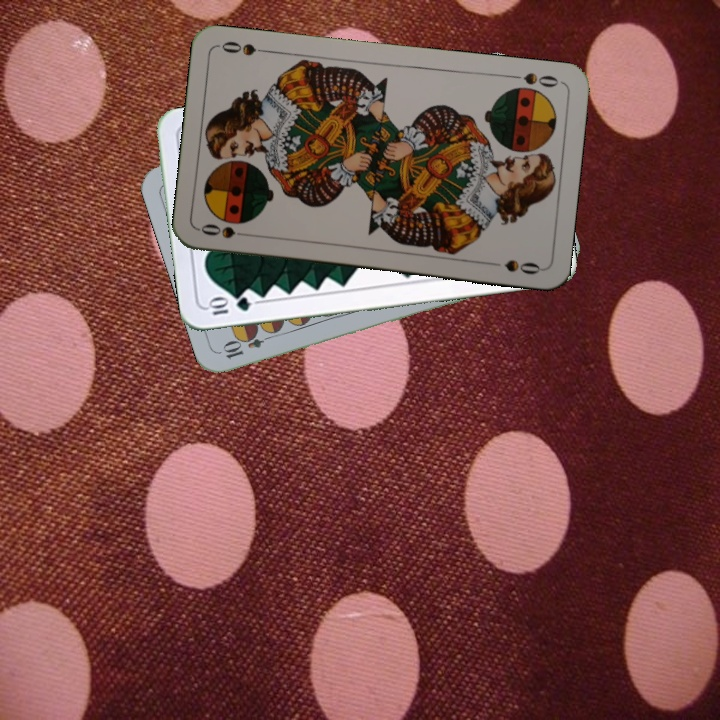E10: (219, 328, 277, 362)
G10: (204, 293, 254, 318)
SO: (197, 219, 256, 241), (505, 68, 561, 90)
